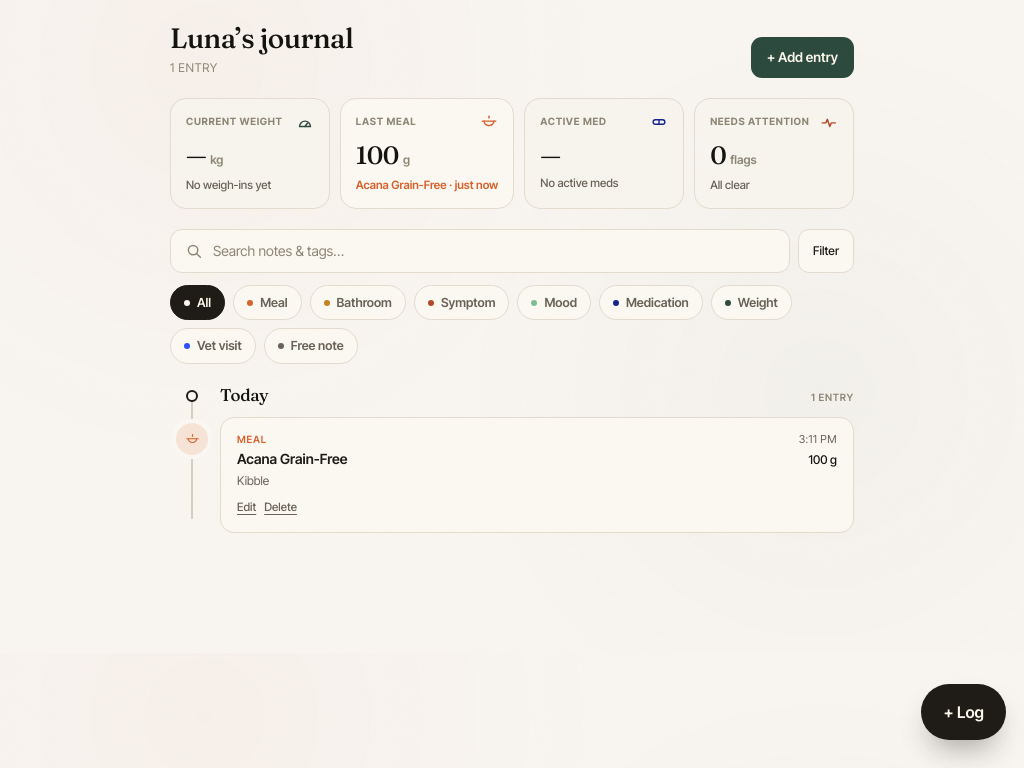
Test: JournalTimeline feed › clears the search and filters when Clear filters is clicked in the no-match state
In the search field named "Search notes and tags": {"x": 494, "y": 251} [213,240,775,262], type "nomatch"
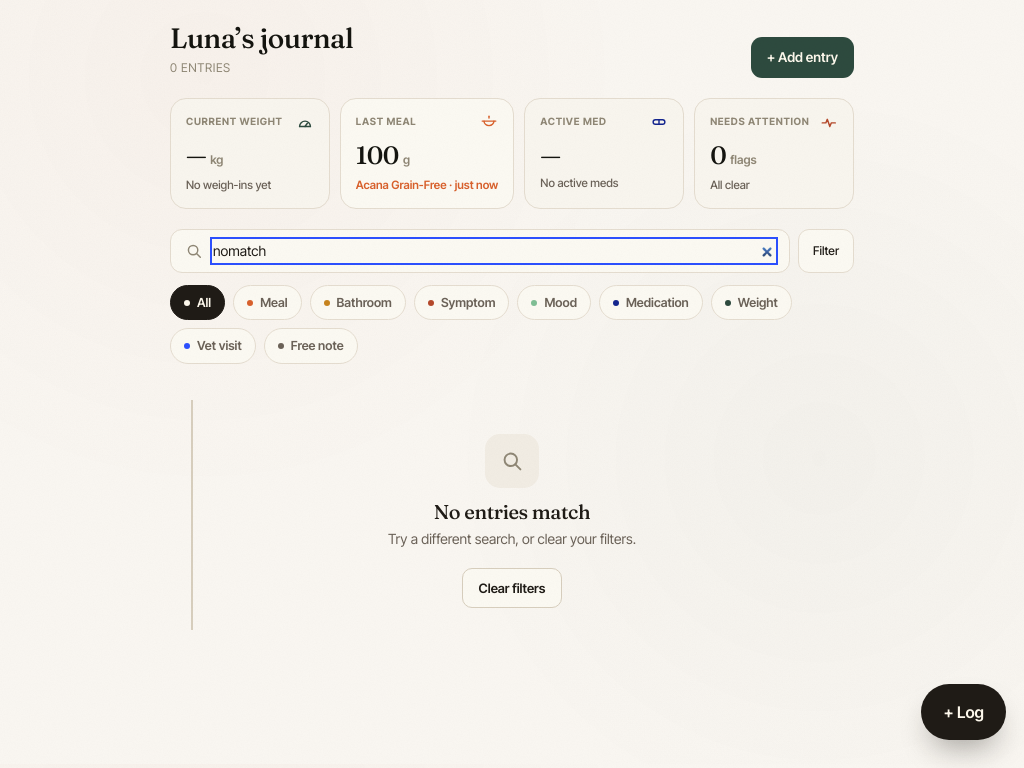
Expected: the text "No entries match" is shown, [434,499,590,524]
Click the button "Clear filters": {"x": 512, "y": 588} [462,568,562,608]
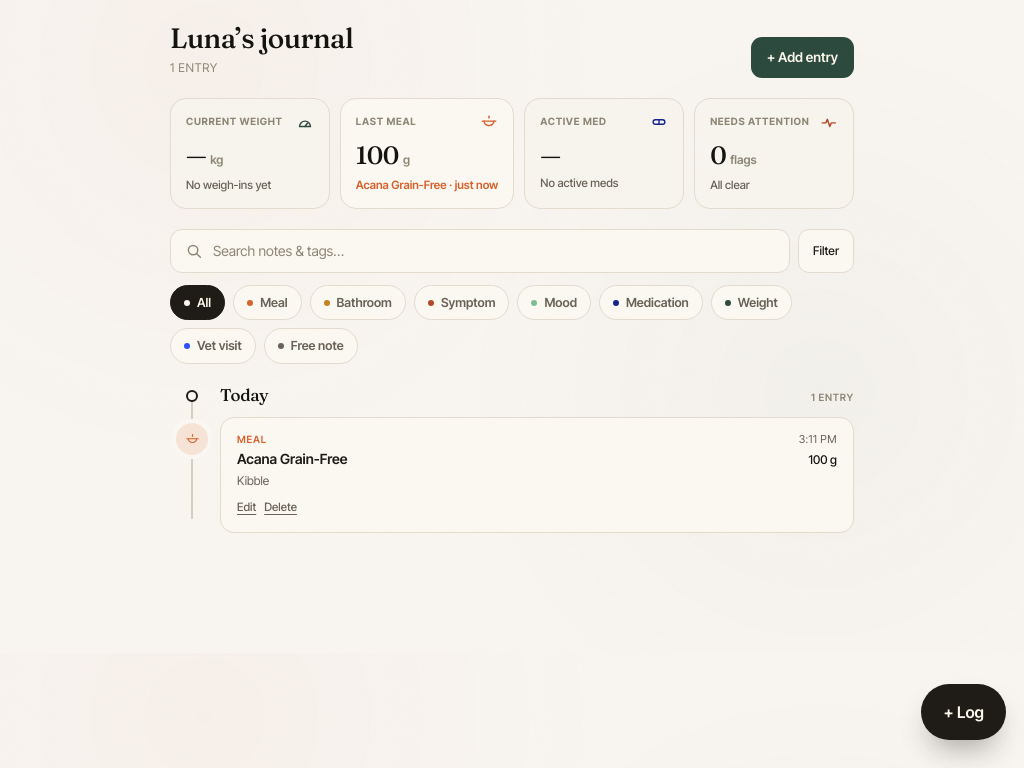
Expected: the search field named "Search notes and tags" is empty, [213,240,775,262]
